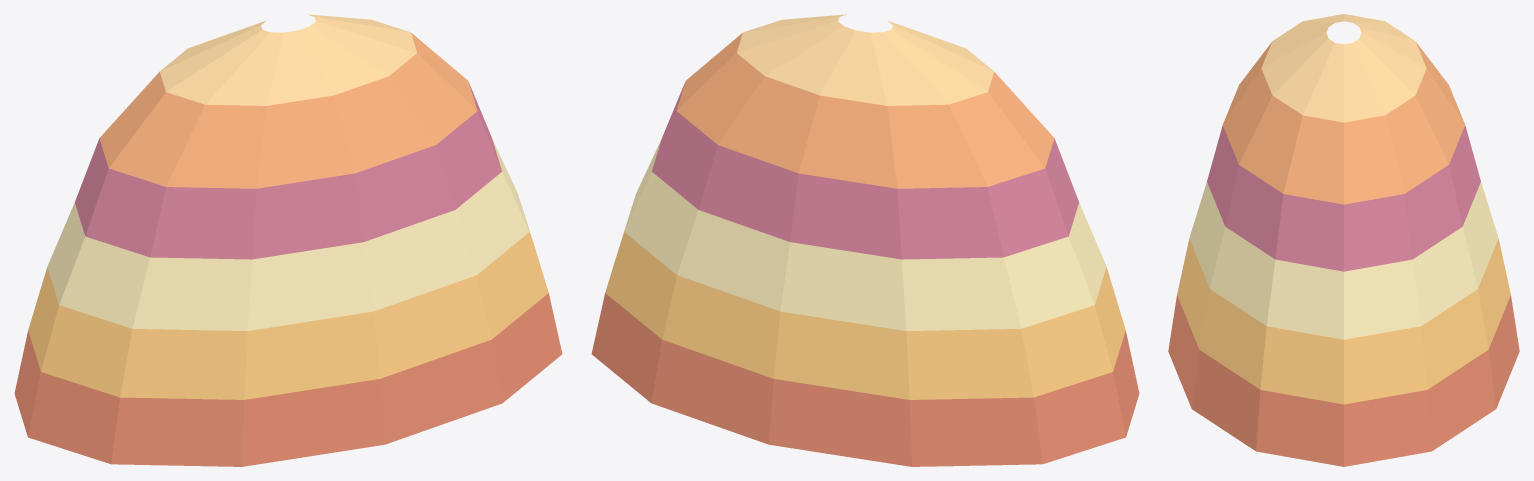
The model's file is danxia-rock.glb.
3 renders of one model, left to right at view 1: azimuth 30°, elevation 25°; view 2: azimuth 150°, elevation 25°; view 3: azimuth 270°, elevation 25°, orthographic. The views are drawn at different scales.
Visible parts, largest first — view 1: Part0, Part1, Part2, Part4, Part3, Part5; view 2: Part0, Part1, Part2, Part4, Part3, Part5; view 3: Part0, Part1, Part2, Part4, Part3, Part5.
Part boxes in pixels (left/top/right/bottom): Part0: left=14, top=293, right=562, bottom=466; Part1: left=28, top=207, right=548, bottom=399; Part2: left=47, top=139, right=529, bottom=330; Part4: left=99, top=33, right=477, bottom=188; Part3: left=75, top=83, right=501, bottom=259; Part5: left=159, top=14, right=416, bottom=105; Part0: left=591, top=293, right=1139, bottom=466; Part1: left=605, top=207, right=1125, bottom=399; Part2: left=624, top=139, right=1106, bottom=330; Part4: left=676, top=33, right=1054, bottom=188; Part3: left=652, top=83, right=1078, bottom=259; Part5: left=737, top=14, right=994, bottom=105; Part0: left=1168, top=295, right=1519, bottom=466; Part1: left=1177, top=239, right=1510, bottom=404; Part2: left=1189, top=182, right=1498, bottom=339; Part4: left=1223, top=42, right=1464, bottom=204; Part3: left=1207, top=125, right=1480, bottom=271; Part5: left=1261, top=14, right=1426, bottom=122.
Bounding box in the file's own units: 14 × 9 × 9.
